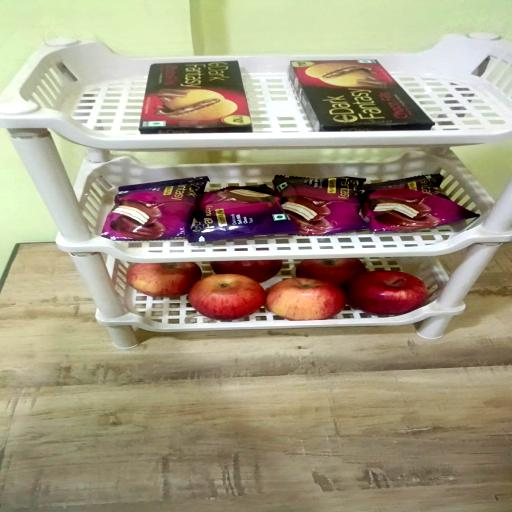Apple: (190, 274, 267, 321), (346, 271, 426, 316), (266, 278, 348, 321), (126, 263, 200, 298), (296, 258, 366, 287), (211, 260, 282, 283)
Choco Fills: (290, 58, 434, 131), (142, 60, 255, 133)
Choco Pie: (100, 178, 207, 242), (360, 176, 476, 234), (190, 186, 298, 245), (273, 175, 365, 236)
